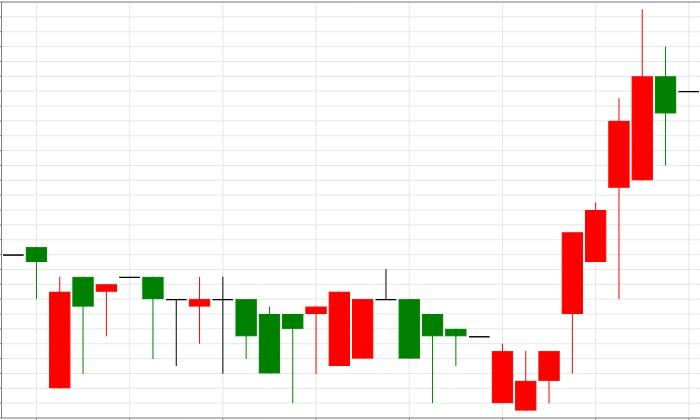evening_star_fall: (259, 269, 421, 404)
three_white_soldiers_rise: (375, 232, 584, 411)
